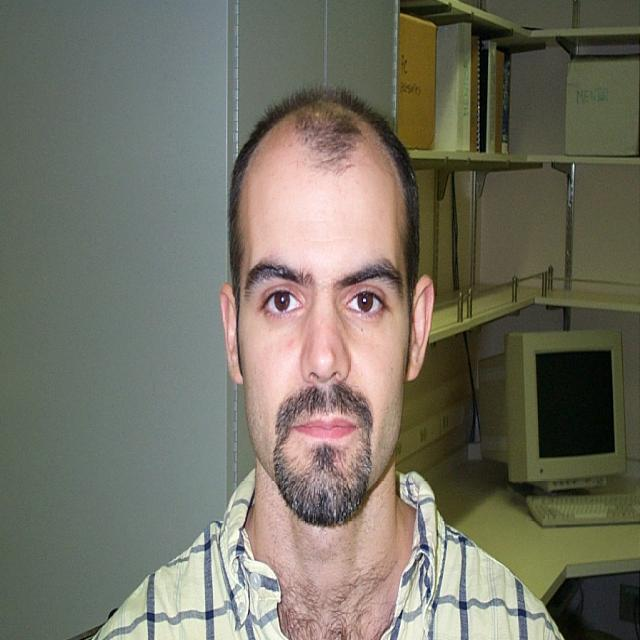sem_oculos: (210, 235, 431, 342)
